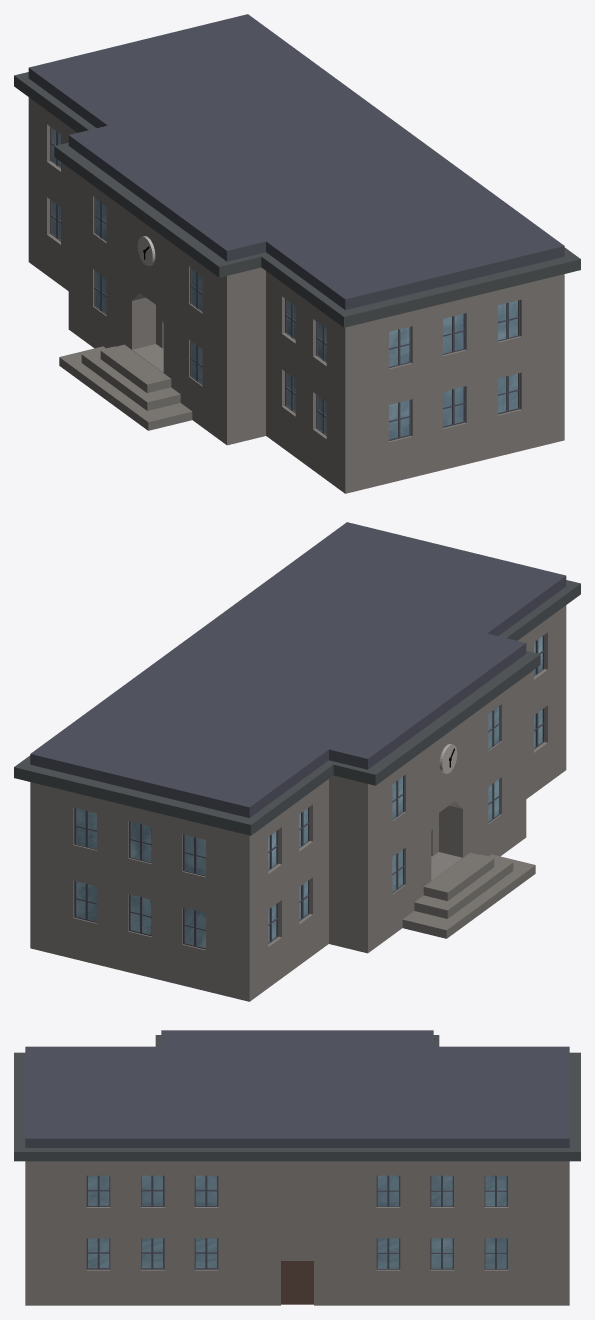
File: TPCS_School_V1.fbx
The picture shows the model from 3 angles, top to bottom: view 1: azimuth 30°, elevation 25°; view 2: azimuth 150°, elevation 25°; view 3: azimuth 270°, elevation 25°; orthographic projection. The views are drawn at different scales.
Parts seen in each view (by area): view 1: Cube.245; view 2: Cube.245; view 3: Cube.245.
Part boxes in pixels (x1,y1,x2,y2): Cube.245: (14, 14, 580, 493); Cube.245: (14, 522, 580, 1001); Cube.245: (14, 1030, 580, 1305).
Bounding box in the file's own units: 1138 × 679 × 2084.
